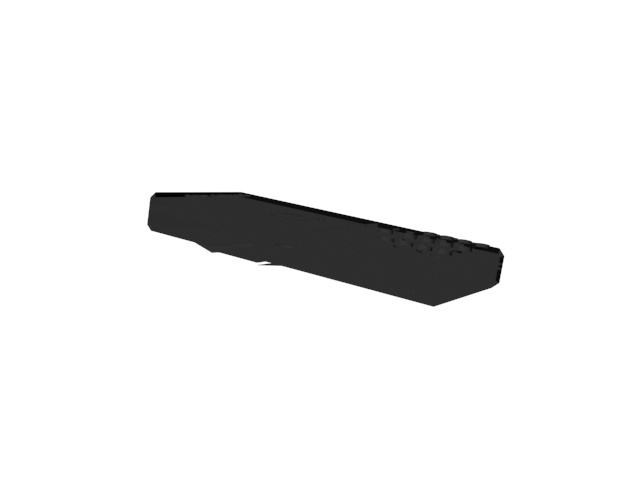mobile_phone: (145, 185, 512, 312)
